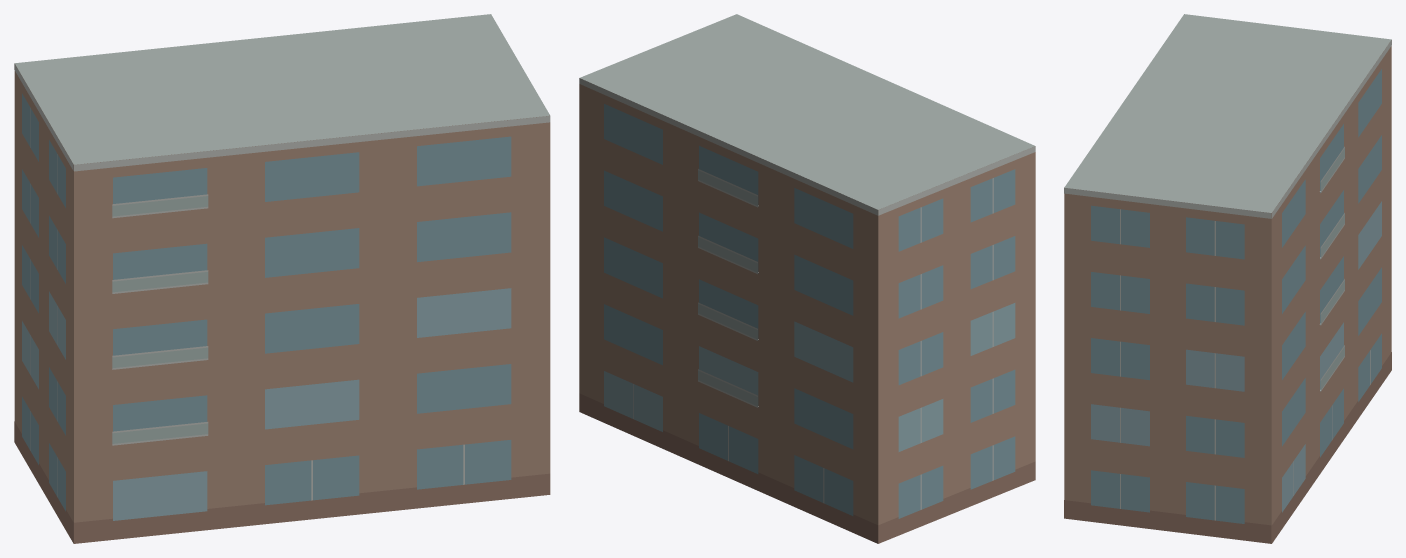
File: survey-upis-32872268.glb
The picture shows the model from 3 angles, left to right: view 1: azimuth 30°, elevation 25°; view 2: azimuth 150°, elevation 25°; view 3: azimuth 270°, elevation 25°; orthographic projection. The views are drawn at different scales.
Visible parts, largest first — view 1: survey-upis-32872268.tmp; view 2: survey-upis-32872268.tmp; view 3: survey-upis-32872268.tmp.
Boxes of the visible parts, left/top/right/bottom form: survey-upis-32872268.tmp: left=14, top=14, right=550, bottom=543; survey-upis-32872268.tmp: left=579, top=14, right=1035, bottom=543; survey-upis-32872268.tmp: left=1064, top=14, right=1391, bottom=543.
Size of the model in its own units: 17.82 by 13.8 by 12.4.
